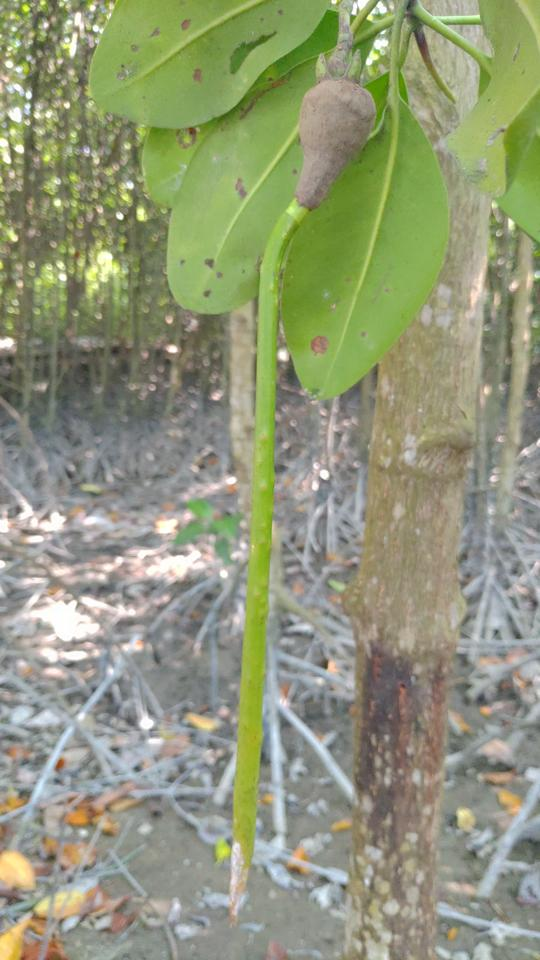setengah matang: (211, 44, 389, 925)
